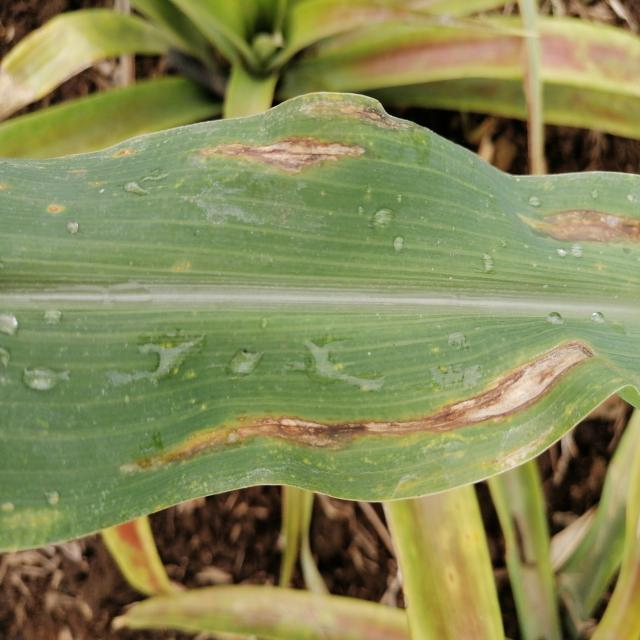Corn_Leaf_Blight: (0, 87, 640, 544)
